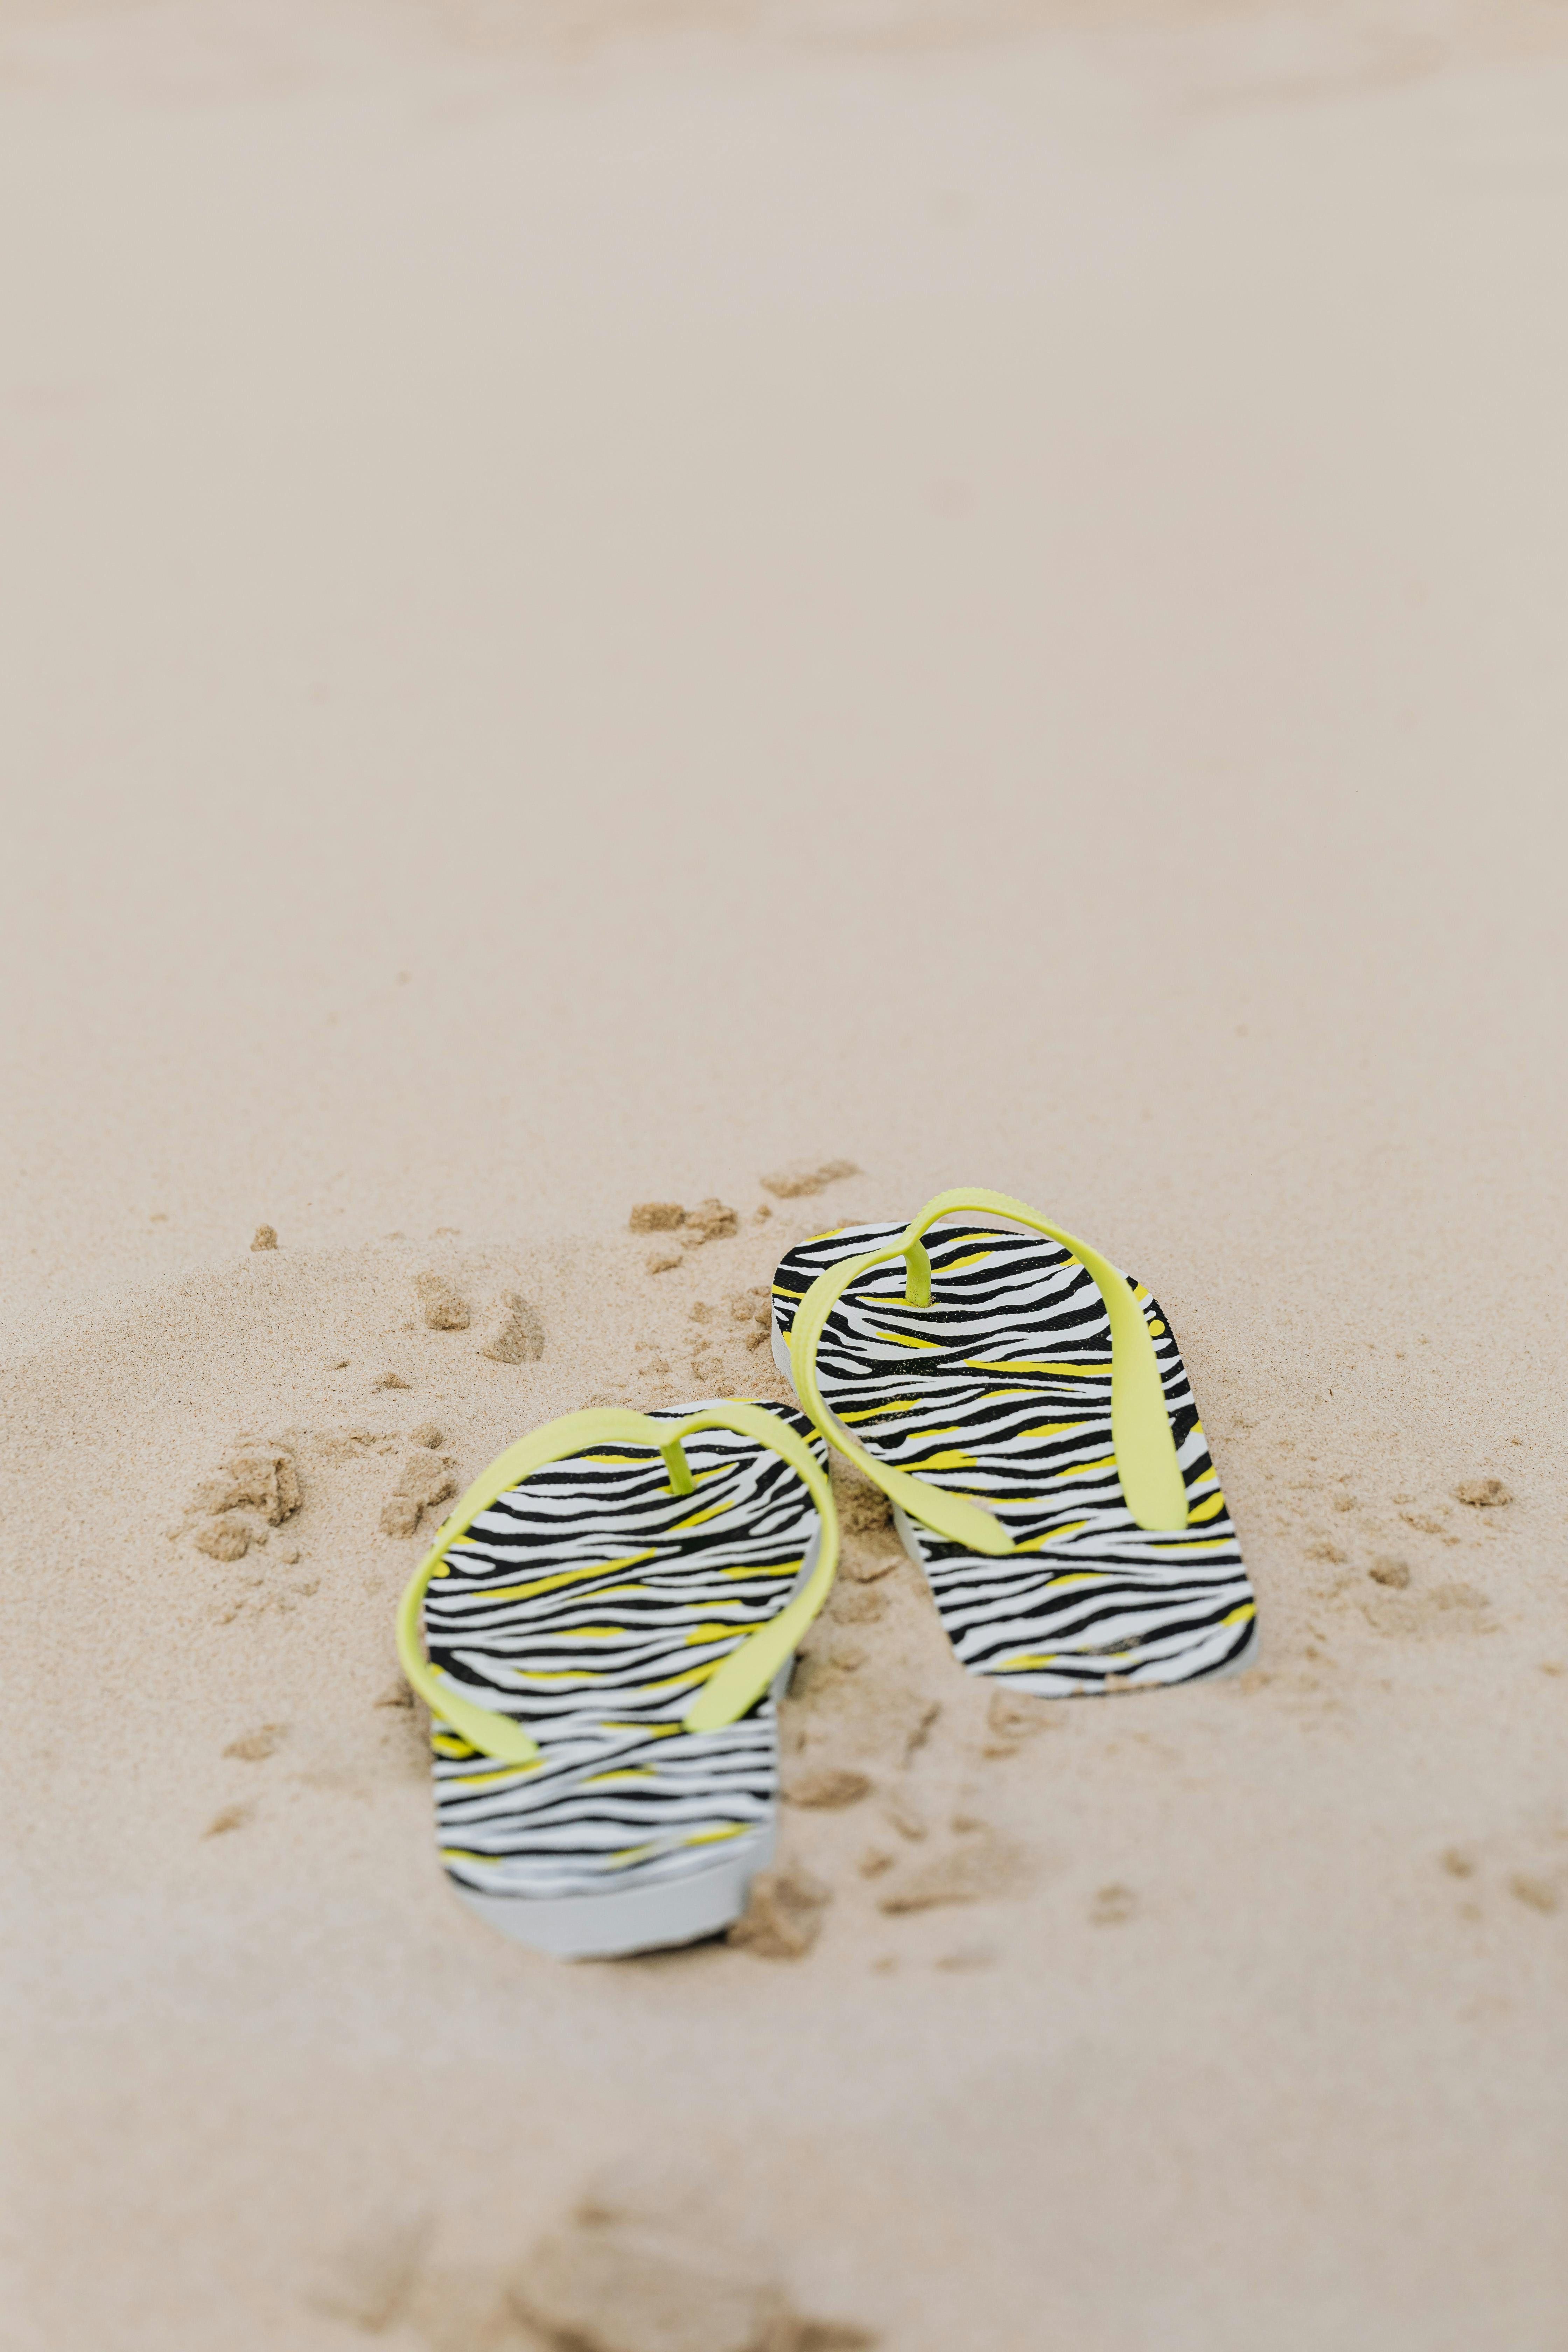Footwear: (381, 1148, 1260, 1962)
